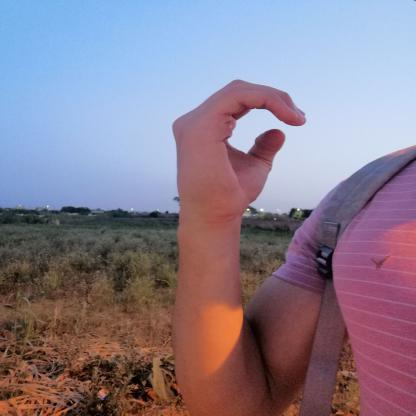JEEM: (156, 67, 321, 225)
